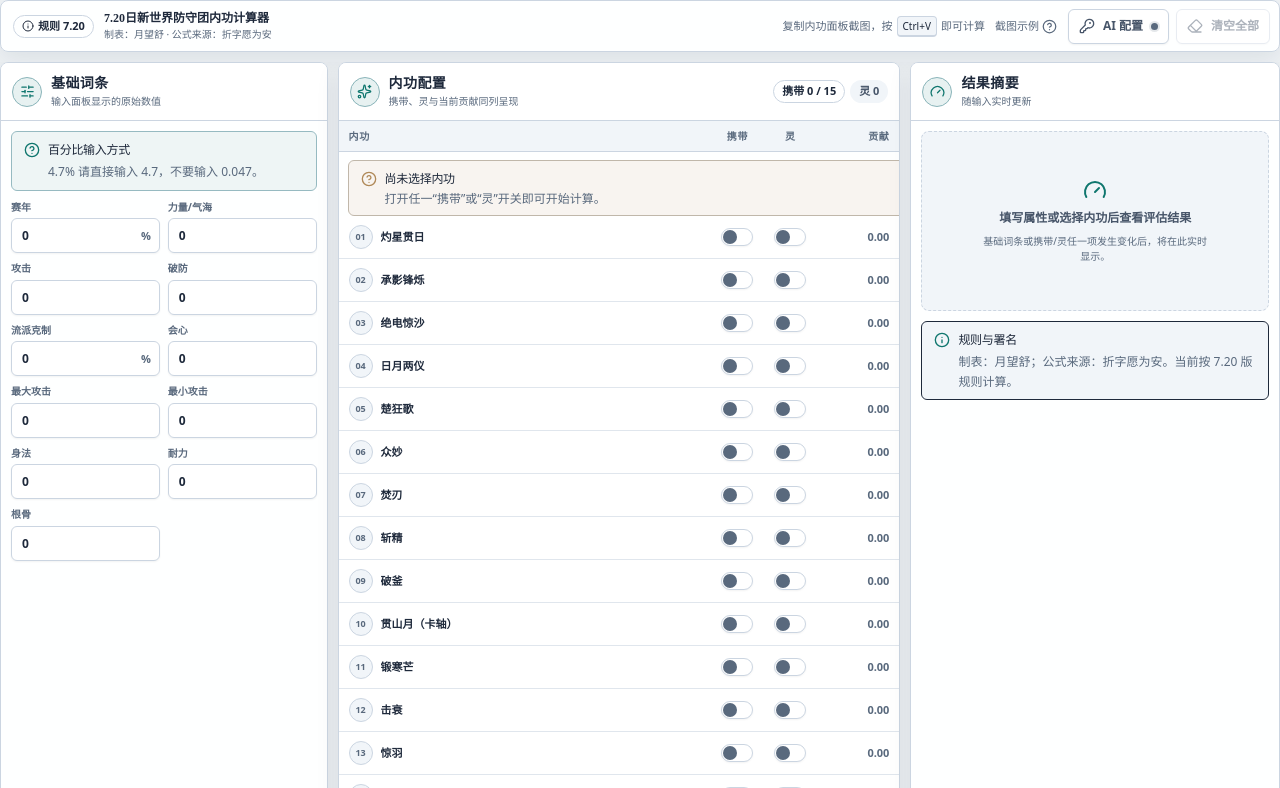
Scenario: InternalSkillCalculatorPage › validates and saves a mystery code
The image size is (1280, 788).
Click the button "AI 配置": (1118, 26) x1=1068 y1=8 x2=1169 y2=44
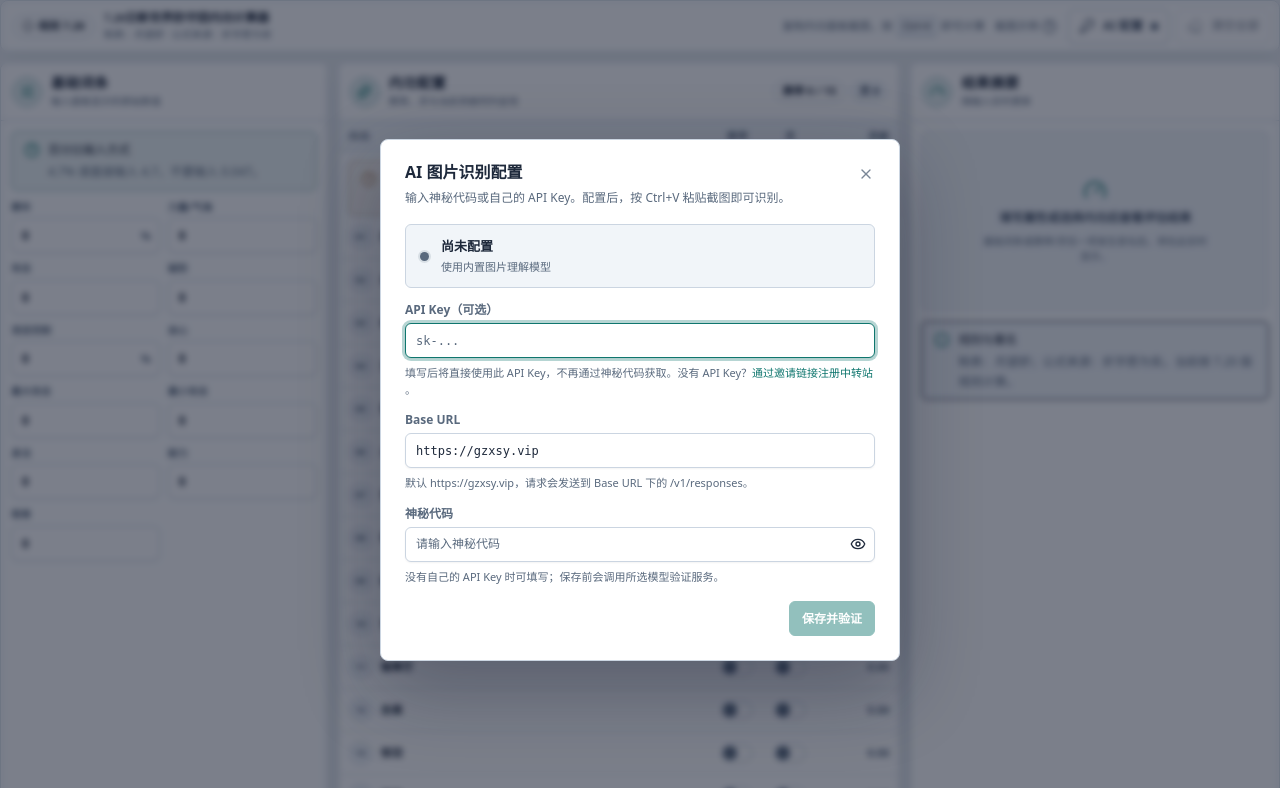
In the password field labelled "神秘代码": (640, 544) x1=405 y1=526 x2=875 y2=562, type "shree"
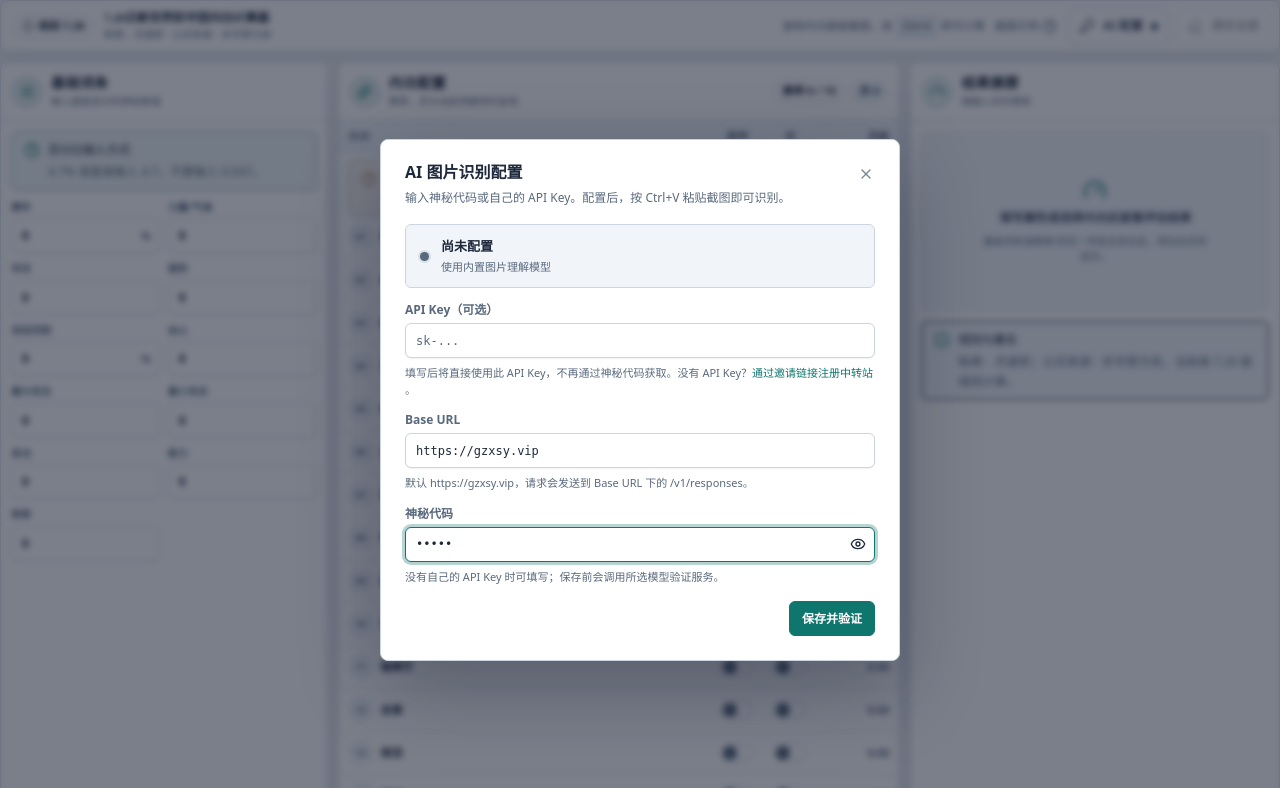
Click the button "保存并验证": (832, 618) x1=789 y1=601 x2=875 y2=636
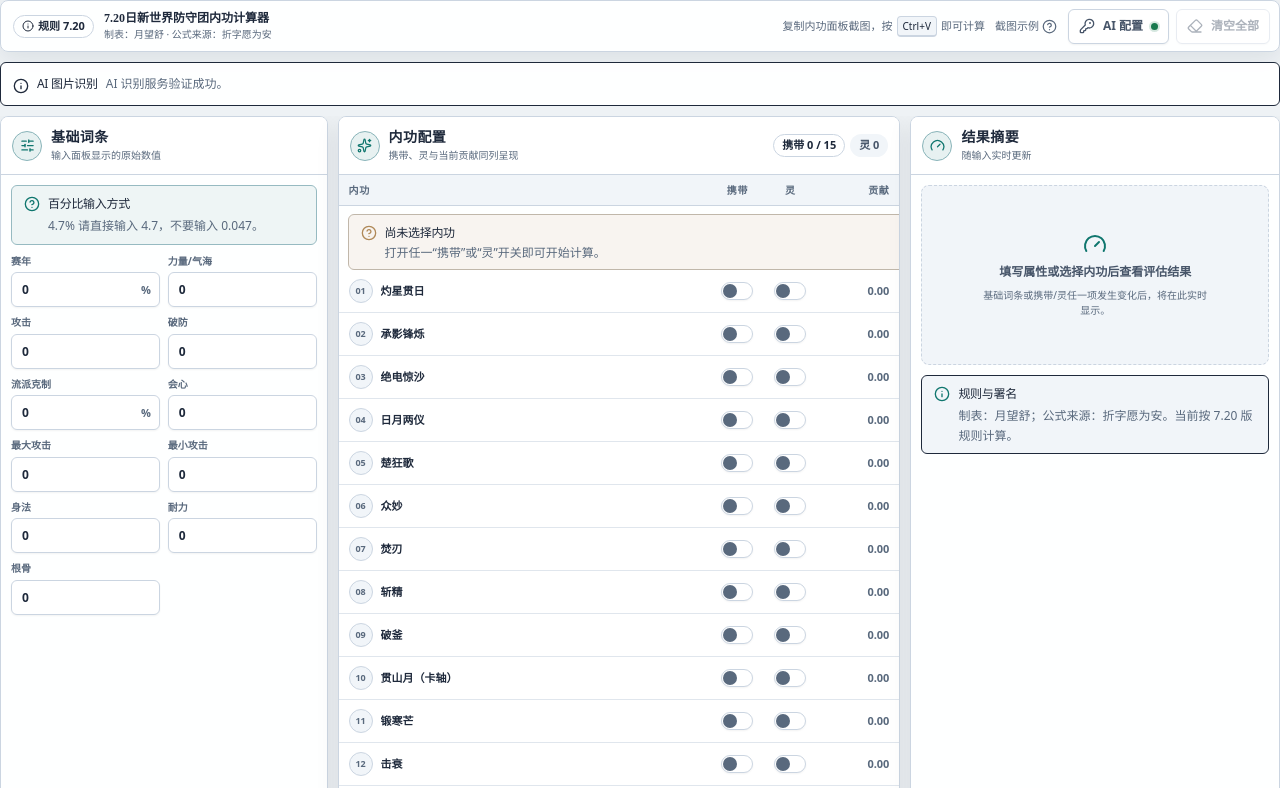
Expected: the text "AI 识别服务验证成功。" is shown, x1=106 y1=76 x2=229 y2=92
